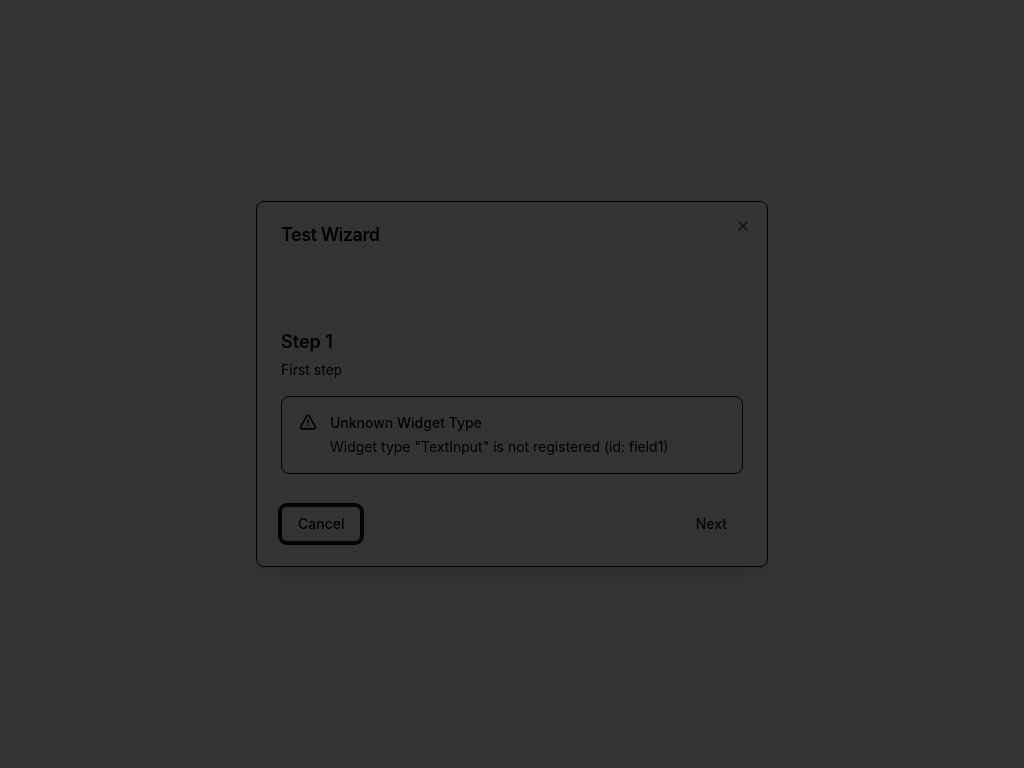
Scenario: WizardWidget › validates step before proceeding to next
Click the button "Next".
click(711, 524)  # box left=680, top=506, right=743, bottom=542
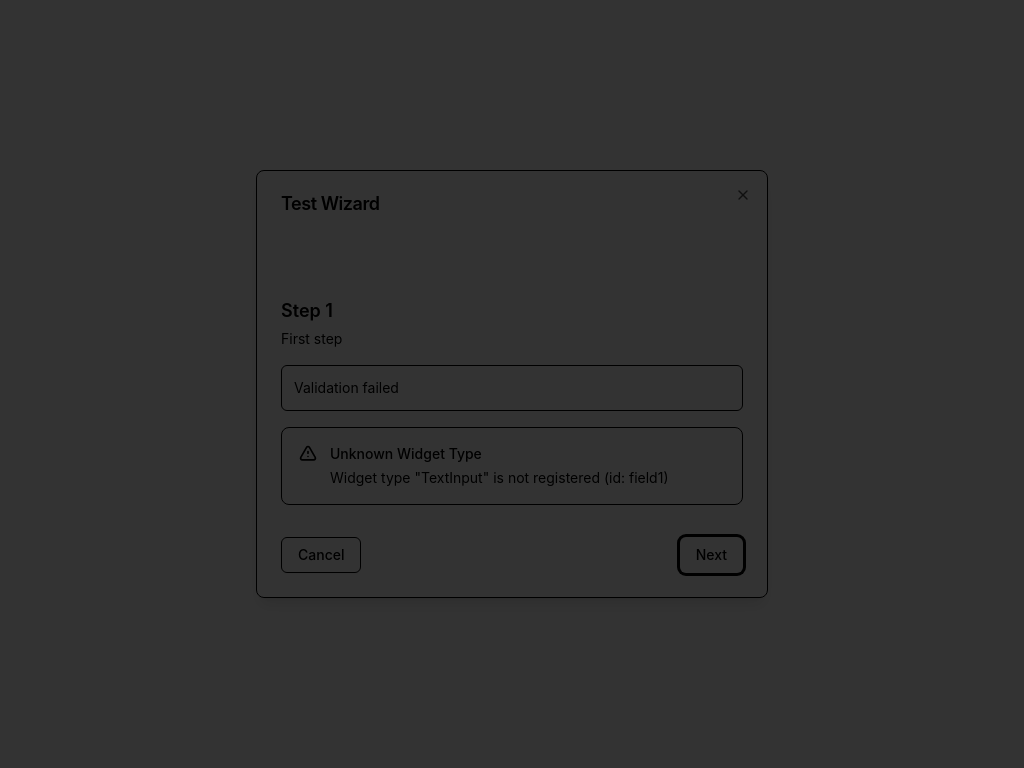
Expected: the heading "Step 1" is shown, left=281, top=300, right=333, bottom=321
Result: the text "Validation failed" is shown at left=294, top=379, right=399, bottom=396
